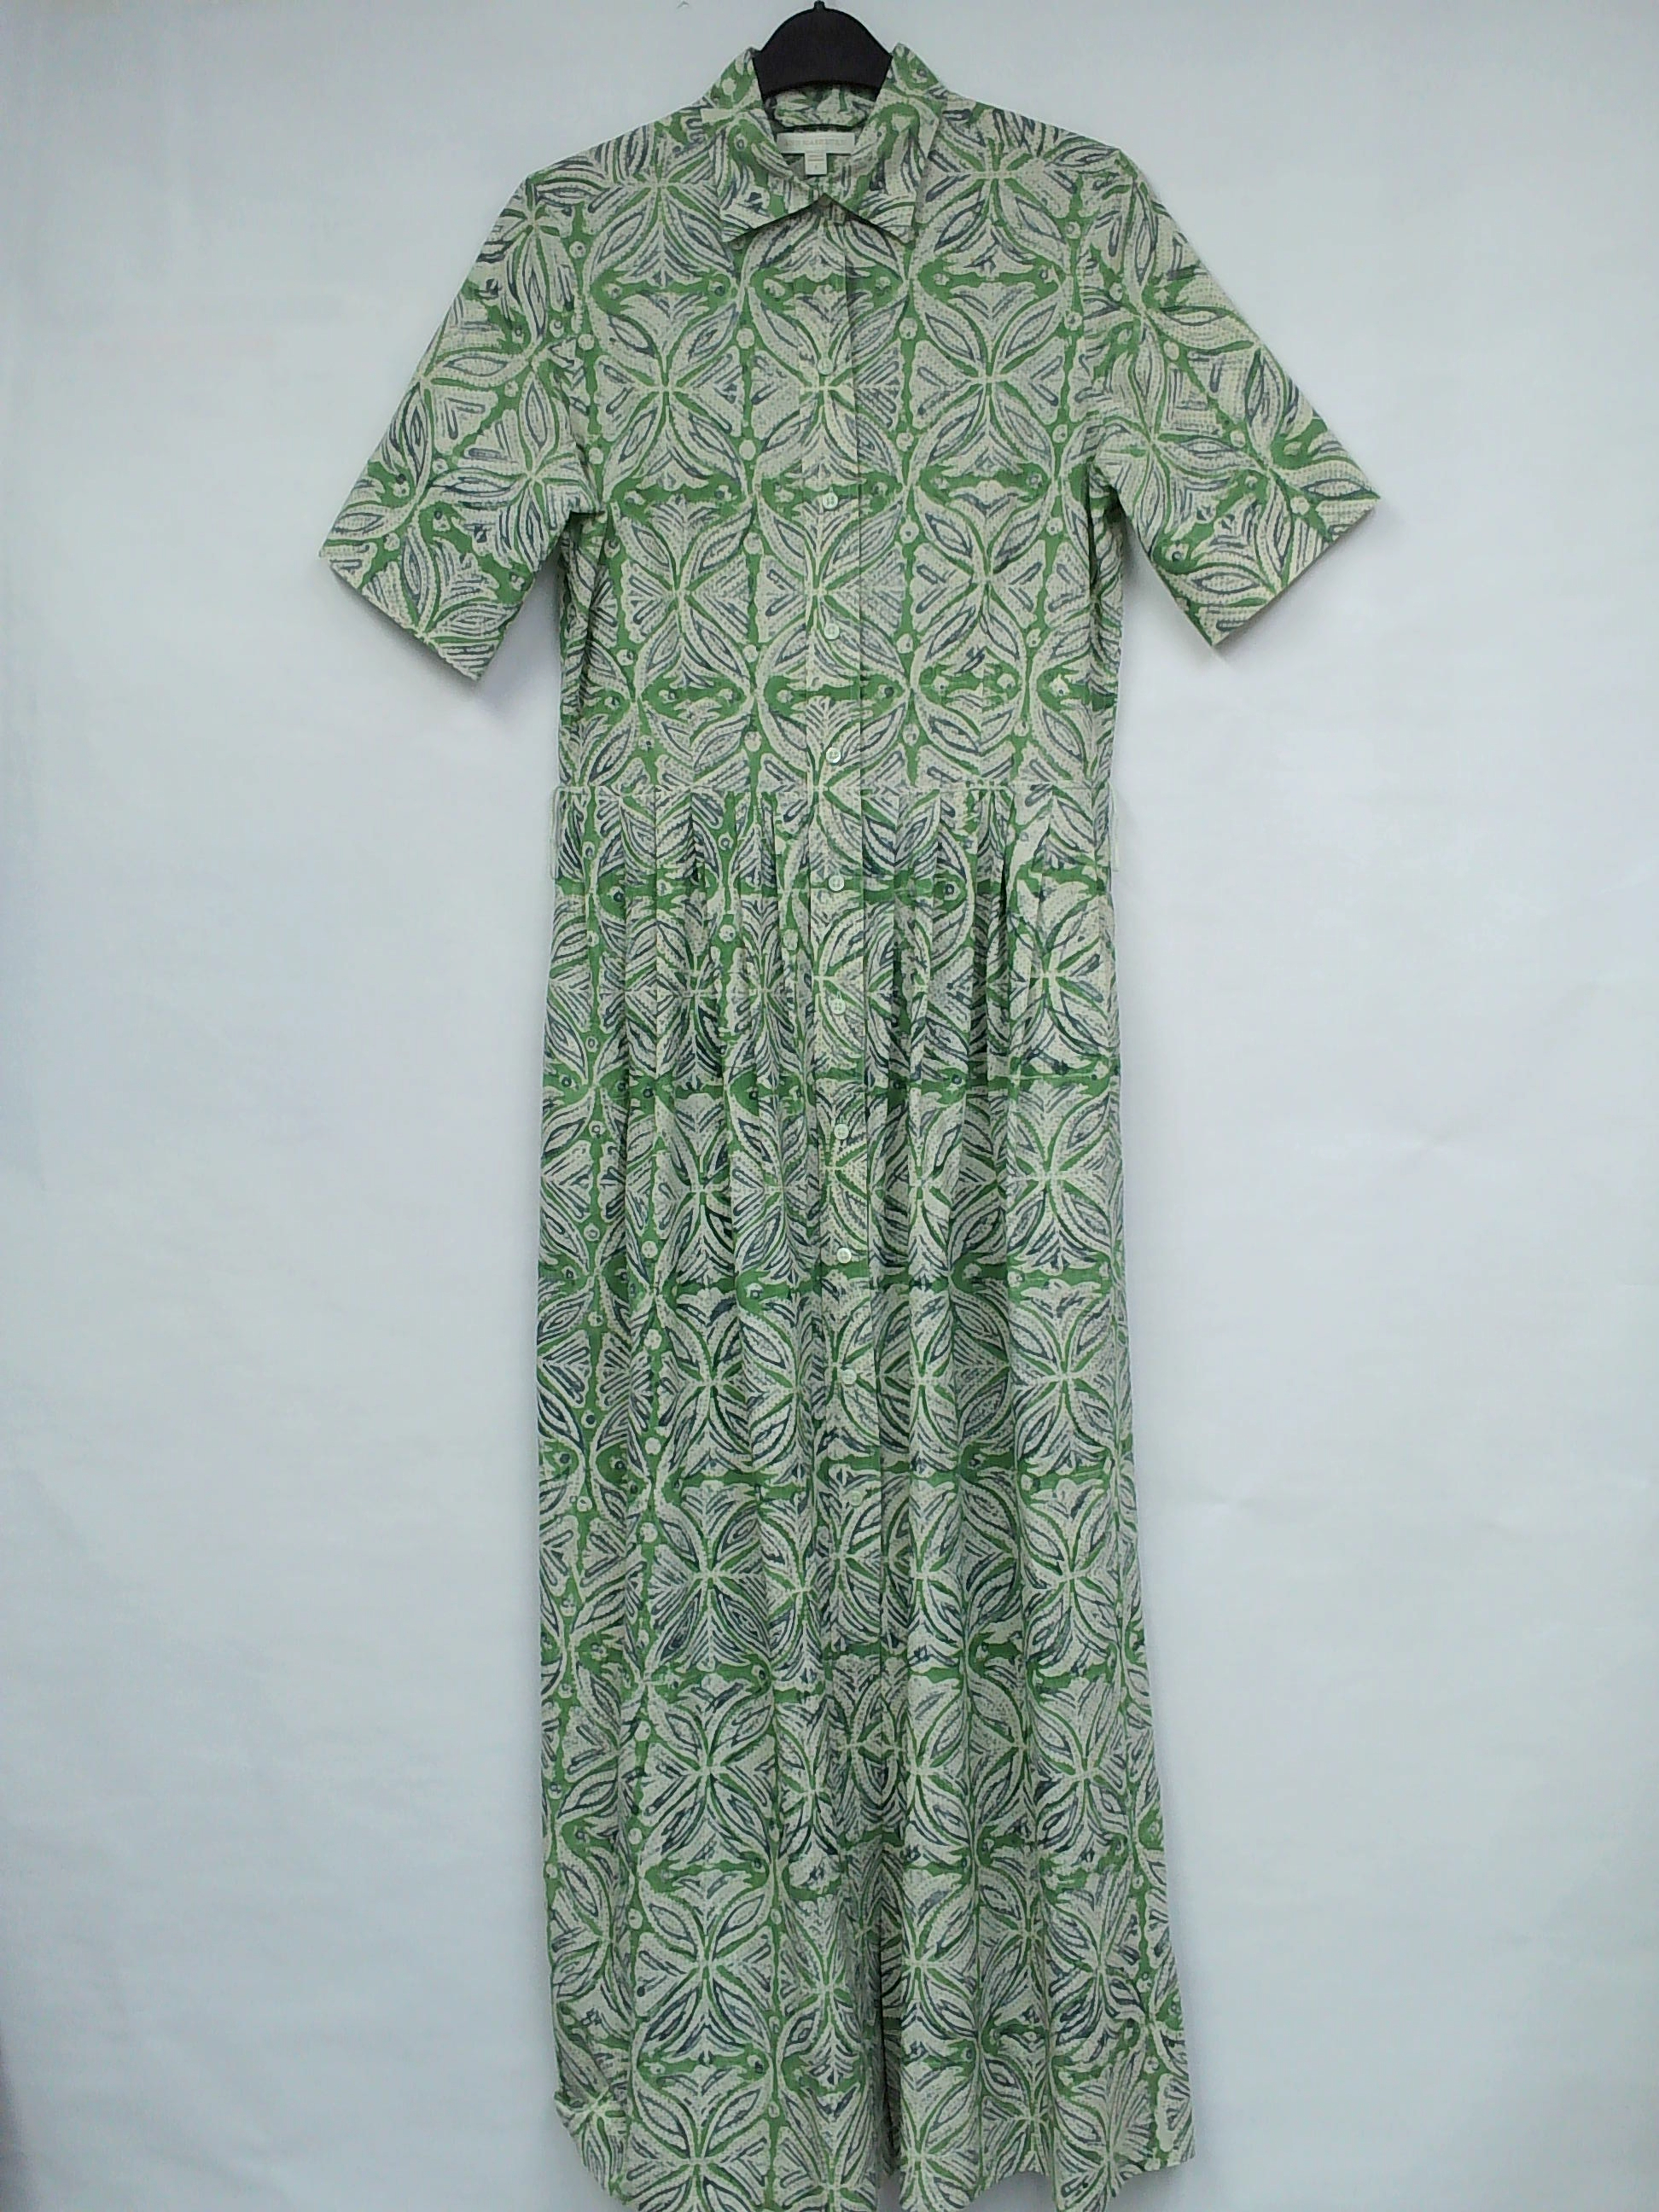bad_fabric: (882, 752, 1114, 808)
